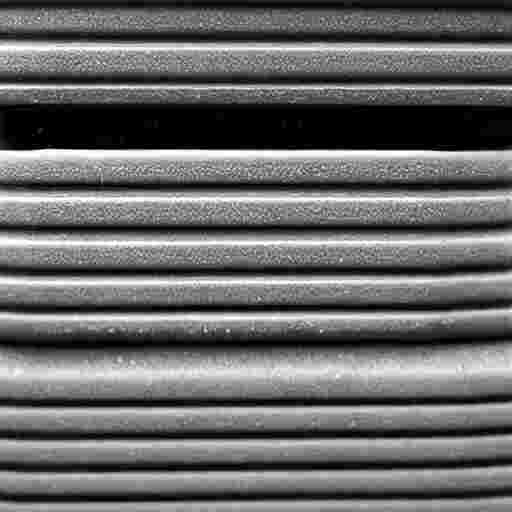power outlet: (0, 3, 511, 511)
